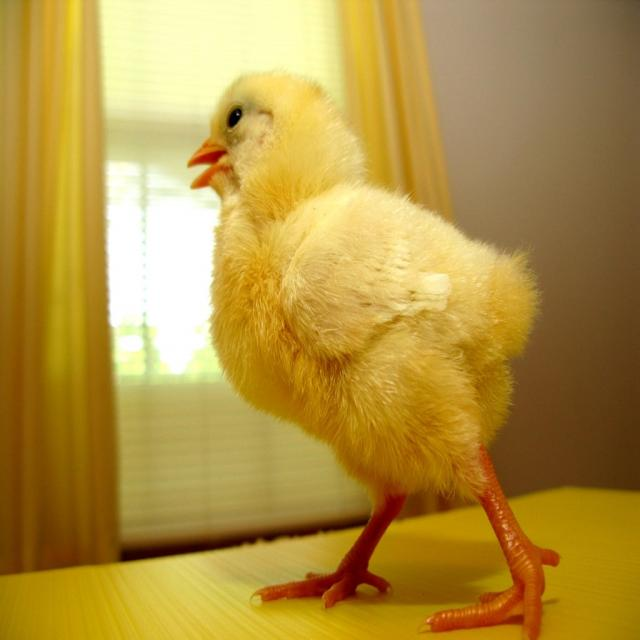Chicken: (190, 64, 532, 639)
